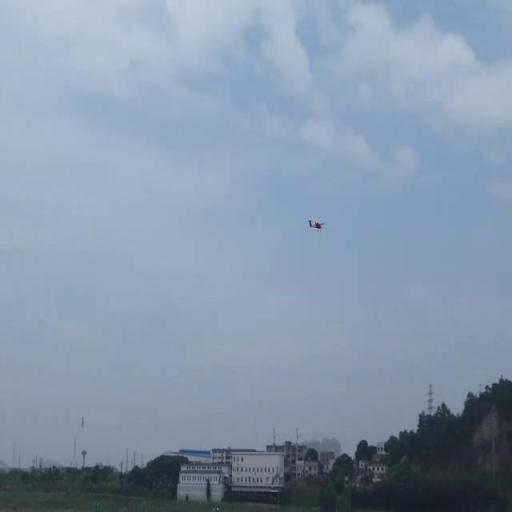uav: (308, 218, 324, 231)
